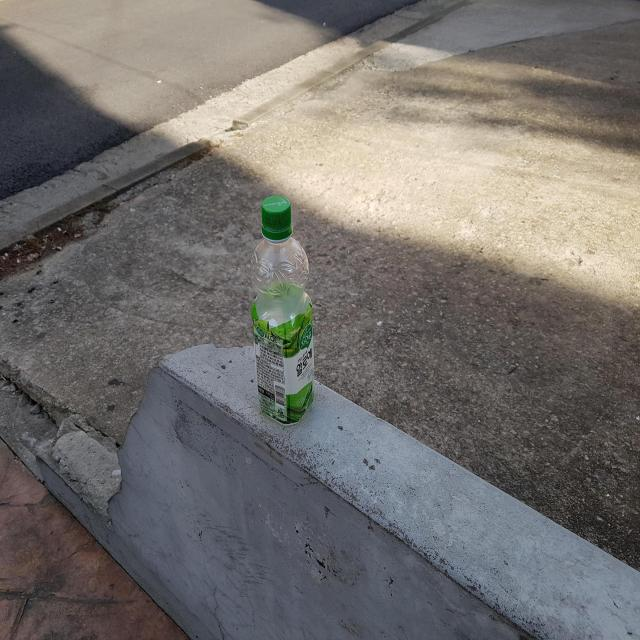plastic: (251, 195, 314, 424)
